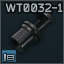SKS 7.62x39 Weapon Tuning thread adapter: (0, 0, 64, 64)
